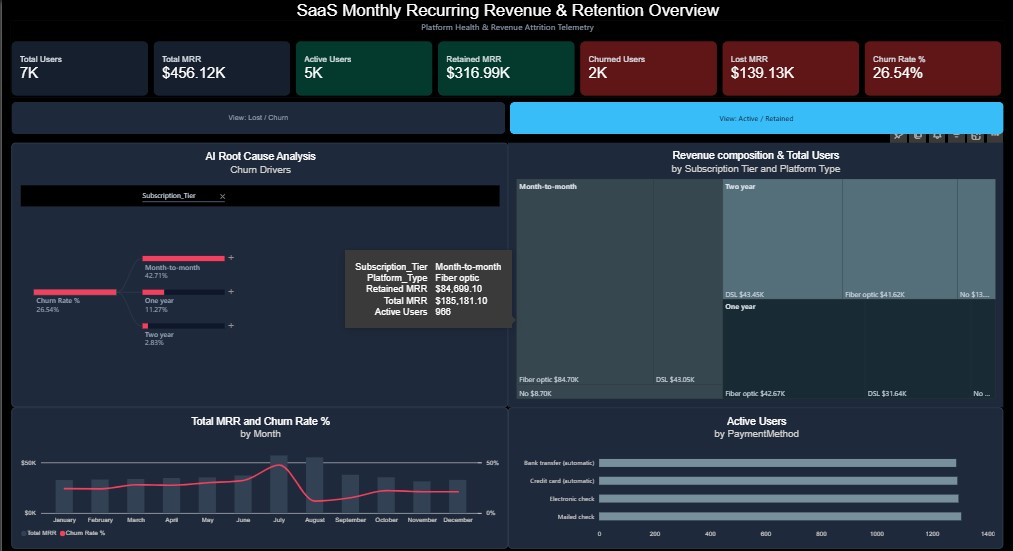

What the dashboard file says about the page in this screenshot:
{"tool":"powerbi","page":{"name":"Executive Summary Dashboard","canvas":[1920,1080],"ordinal":0},"visuals":[{"type":"textbox","box":[0,0,1920,40],"z":0},{"type":"decompositionTreeVisual","title":"AI Root Cause Analysis","fields":{"Analyze":["_KeyMeasures.Churn Rate %"],"ExplainBy":["Fact_Churn.PaymentMethod","Dim_Subscription.Platform_Type","Fact_Churn.TechSupport","Dim_Subscription.Subscription_Tier"]},"box":[17.6,271.1,943.3,502.5],"z":1000,"group":"g2"},{"type":"cardVisual","title":"Platform Health & Revenue Attrition Telemetry","fields":{"Data":["_KeyMeasures.Total Users","_KeyMeasures.Total MRR","_KeyMeasures.Active Users","_KeyMeasures.Retained MRR","_KeyMeasures.Churned Users","_KeyMeasures.Lost MRR","_KeyMeasures.Churn Rate %"]},"box":[17.6,39.7,1884.5,143.3],"z":2000},{"type":"bookmarkNavigator","box":[17.6,194,1884.5,61.7],"z":4000},{"type":"treemap","title":"Revenue composition & Total Users","fields":{"Details":["Dim_Subscription.Platform_Type"],"Group":["Dim_Subscription.Subscription_Tier"],"Values":["_KeyMeasures.Lost MRR"]},"box":[960.9,271.1,941.1,502.5],"z":5000,"group":"g2"},{"type":"lineClusteredColumnComboChart","fields":{"Category":["Dim_Date.Date.Variation.Date Hierarchy.Month"],"Y":["_KeyMeasures.Total MRR"],"Y2":["_KeyMeasures.Churn Rate %"]},"box":[17.6,773.6,943.3,268.9],"z":6000,"group":"g1"},{"type":"clusteredBarChart","fields":{"Category":["Fact_Churn.PaymentMethod"],"Y":["_KeyMeasures.Active Users"]},"box":[960.9,773.6,941.1,268.9],"z":7000,"group":"g1"},{"type":"group","id":"g1","title":"Group 1","box":[17.6,773.6,1884.5,268.9],"z":7001},{"type":"group","id":"g2","title":"Group 2","box":[17.6,271.1,1884.5,502.5],"z":7002}]}

Visuals, with their boxes on the page's 1920x1080 design canvas (x1, y1, x2, y2). These are canvas units, not pixel positions in the 1013x551 screenshot, which may show the page scaled, cropped or inside an application window:
textbox: (0, 0, 1920, 40)
"AI Root Cause Analysis" decompositionTreeVisual: (18, 271, 961, 774)
"Platform Health & Revenue Attrition Telemetry" cardVisual: (18, 40, 1902, 183)
bookmarkNavigator: (18, 194, 1902, 256)
"Revenue composition & Total Users" treemap: (961, 271, 1902, 774)
lineClusteredColumnComboChart - Dim_Date.Date.Variation.Date Hierarchy.Month x _KeyMeasures.Total MRR: (18, 774, 961, 1042)
clusteredBarChart - Fact_Churn.PaymentMethod x _KeyMeasures.Active Users: (961, 774, 1902, 1042)
"Group 1" group: (18, 774, 1902, 1042)
"Group 2" group: (18, 271, 1902, 774)
